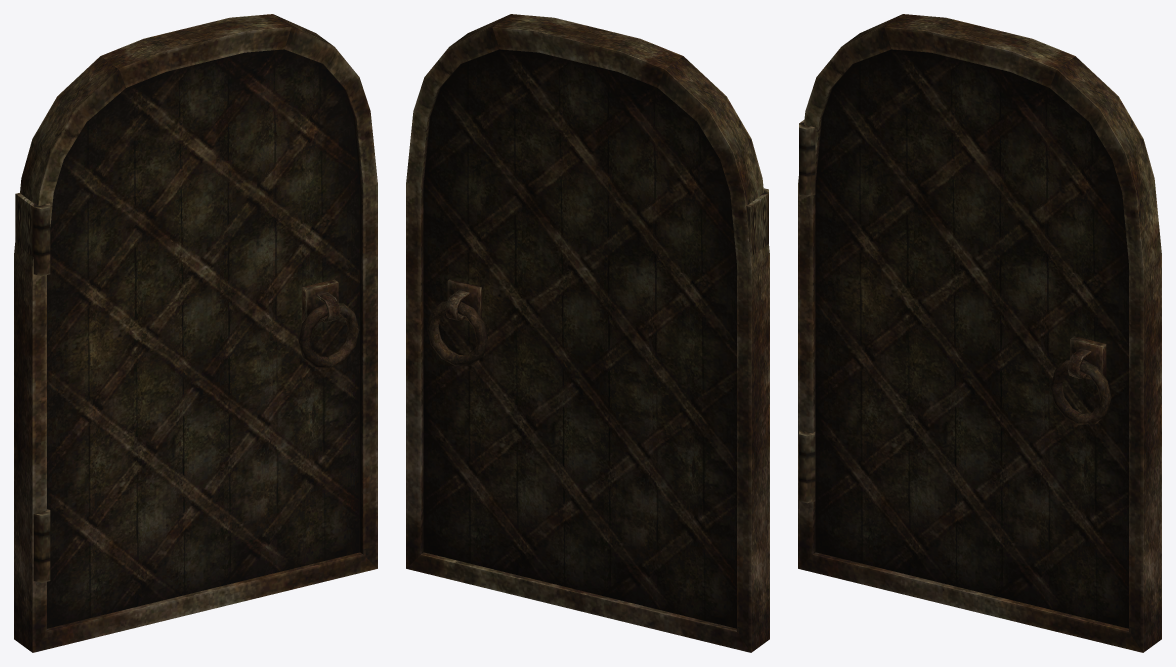
File: sewer_arched.dae
3 renders of one model, left to right at view 1: azimuth 30°, elevation 25°; view 2: azimuth 150°, elevation 25°; view 3: azimuth 330°, elevation 25°, orthographic.
Parts seen in each view (by area): view 1: pCube2, polySurface35, polySurface27; view 2: pCube2, polySurface27, polySurface35; view 3: pCube2, polySurface27, polySurface35.
Part boxes in pixels (x1=…): pCube2: x1=14, y1=14, x2=377, y2=652; polySurface35: x1=15, y1=193, x2=50, y2=582; polySurface27: x1=298, y1=279, x2=359, y2=367; pCube2: x1=406, y1=14, x2=769, y2=652; polySurface27: x1=427, y1=279, x2=487, y2=366; polySurface35: x1=746, y1=188, x2=768, y2=256; pCube2: x1=798, y1=14, x2=1161, y2=652; polySurface27: x1=1050, y1=336, x2=1111, y2=424; polySurface35: x1=799, y1=119, x2=815, y2=503.
Size of the model in its own units: 1.75 by 0.388 by 2.75.
